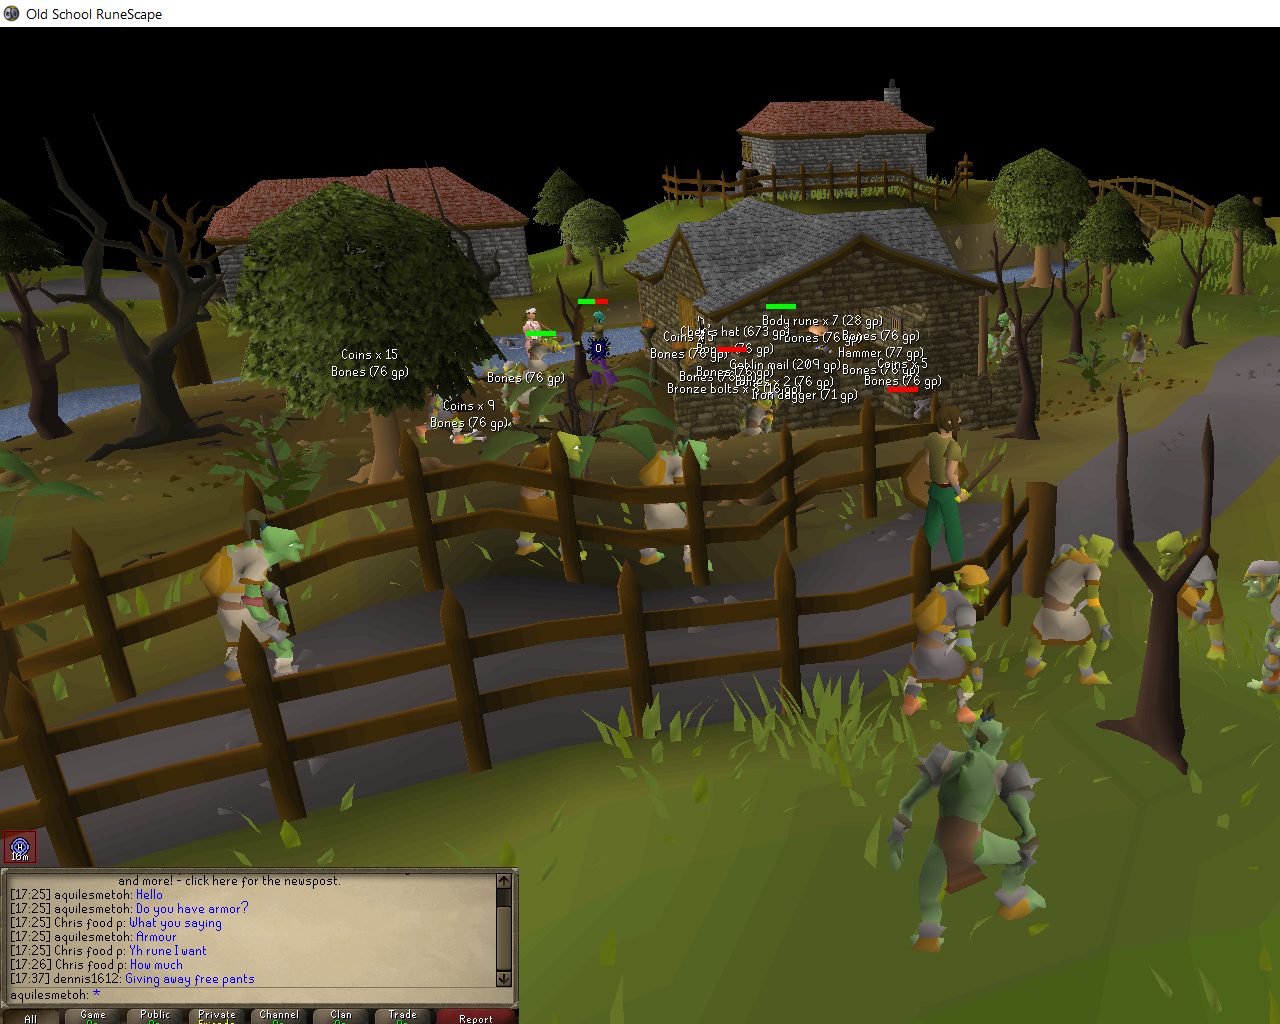Goblin: (881, 704, 1060, 955), (199, 508, 309, 686), (895, 553, 999, 725), (1015, 528, 1124, 686), (1147, 530, 1237, 669), (635, 432, 718, 581), (509, 426, 594, 568), (1241, 559, 1280, 712), (415, 369, 483, 450), (496, 359, 553, 427), (523, 338, 581, 388), (1116, 324, 1162, 377), (995, 312, 1038, 369), (738, 401, 779, 439), (982, 332, 1002, 366)
